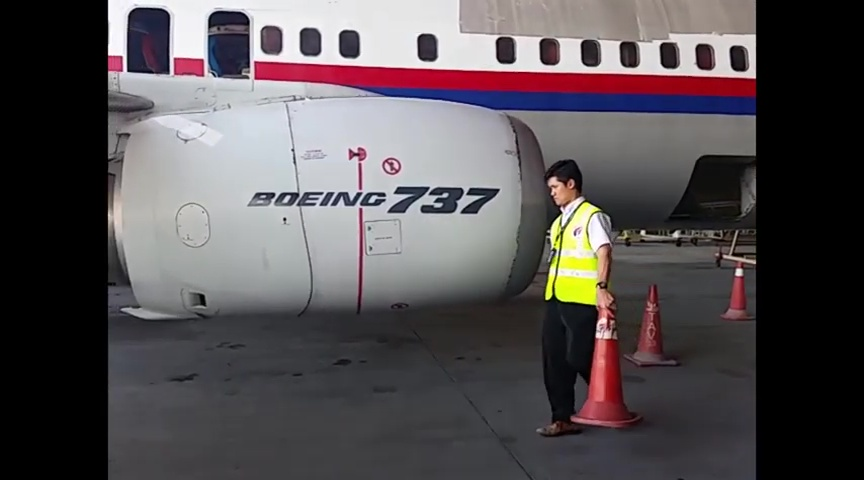safety_cone: (569, 303, 642, 431), (622, 280, 681, 369), (718, 258, 755, 322)
